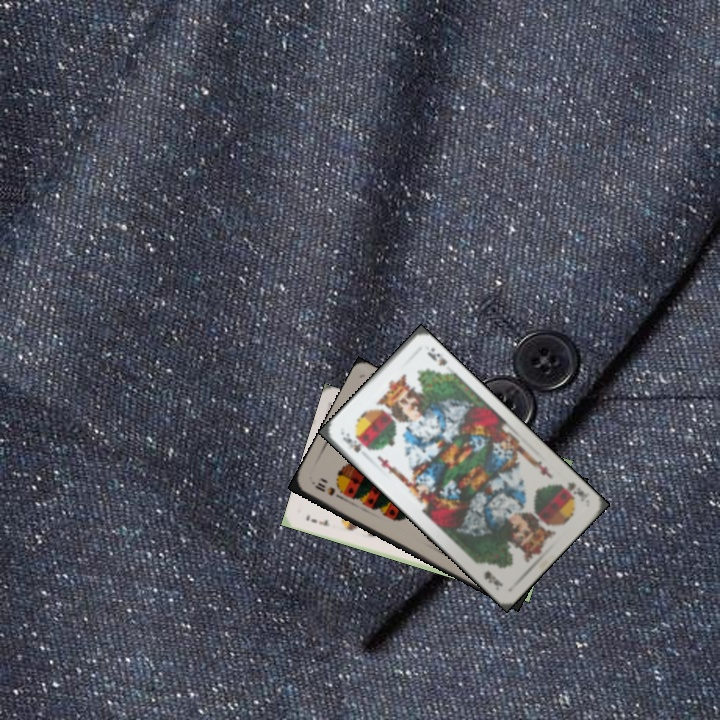E7: (301, 510, 331, 529)
S10: (308, 477, 346, 502)
SK: (555, 478, 587, 502), (338, 429, 364, 455)
